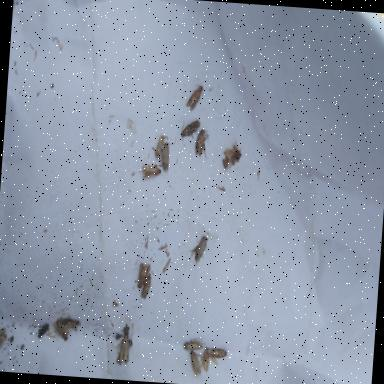pbw: (180, 118, 201, 142), (186, 83, 204, 111), (194, 128, 210, 159), (185, 350, 204, 376), (137, 262, 151, 288), (52, 320, 70, 340), (184, 336, 206, 352), (195, 235, 208, 262), (118, 334, 130, 363), (142, 164, 162, 180), (140, 274, 152, 298), (160, 142, 170, 170), (200, 346, 210, 372), (154, 134, 165, 157), (208, 346, 228, 358), (60, 319, 81, 329), (0, 327, 6, 352)
